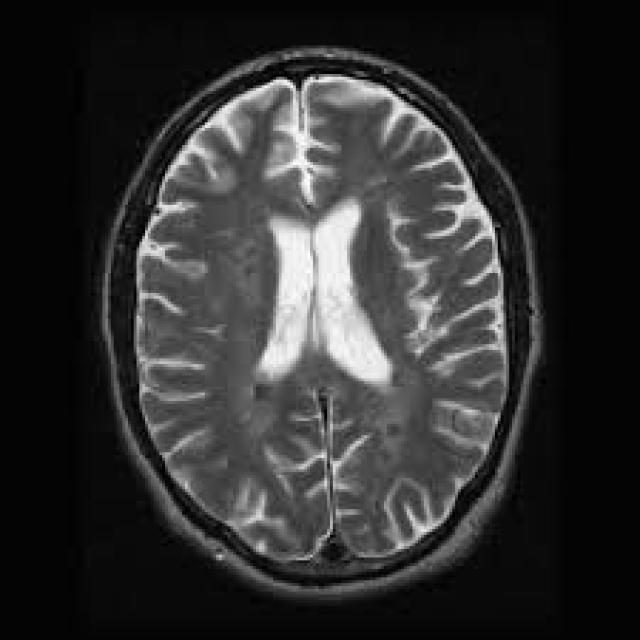notumor: (97, 46, 543, 609)
